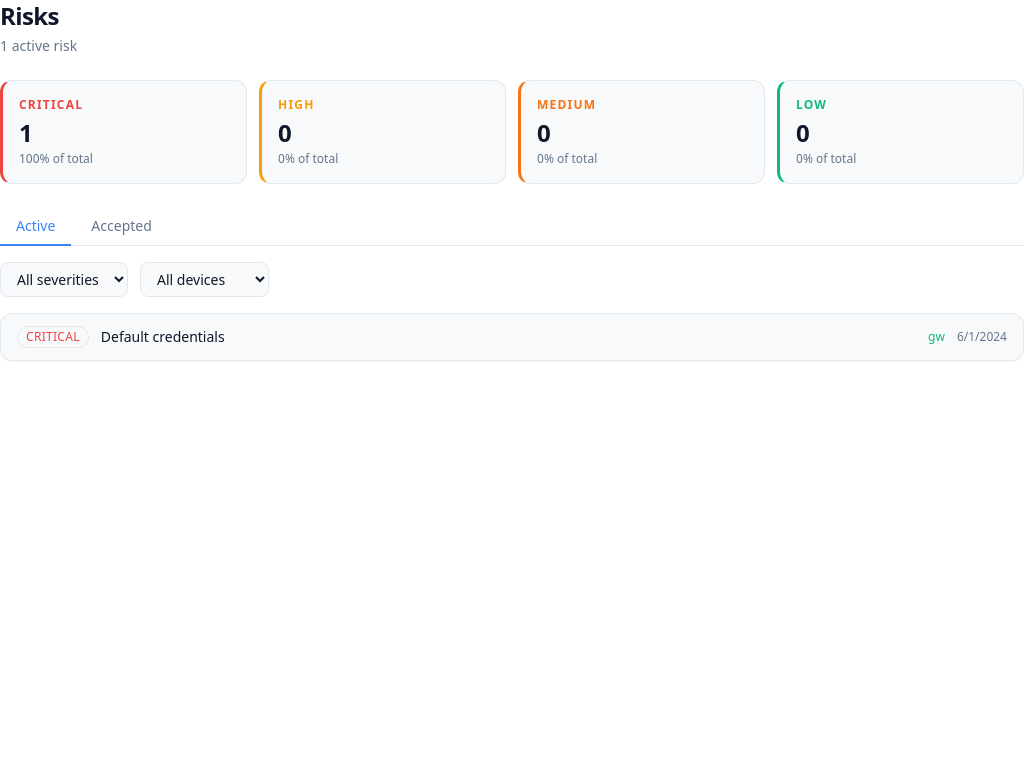
it: RisksPage › opens risk detail modal on row click
This screenshot has width=1024, height=768.
Expected: the text "Default credentials" is shown, [101,327,225,346]
Click the button with aria-label "View details for Default credentials": (53, 337) [1,314,1023,360]
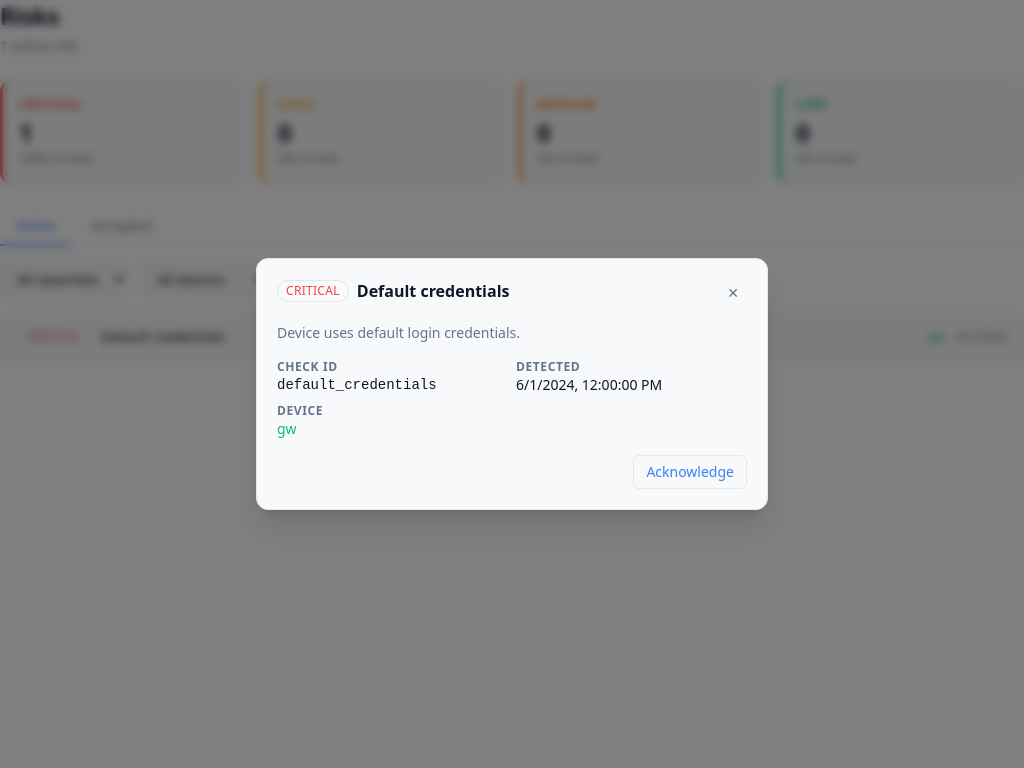
Expected: the dialog is shown
Expected: the text "default_credentials" is shown, [277,377,437,393]
